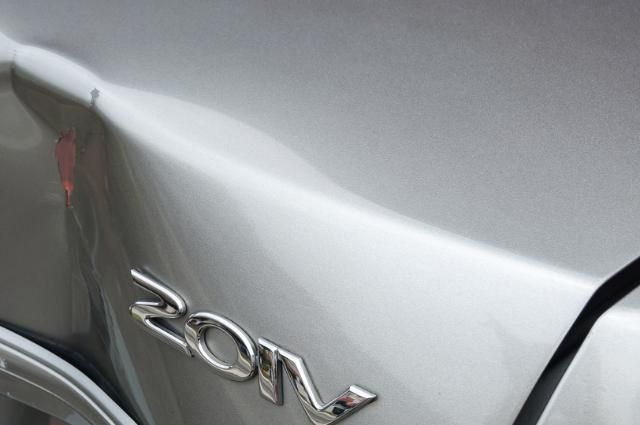Dickey: (6, 47, 211, 425)
